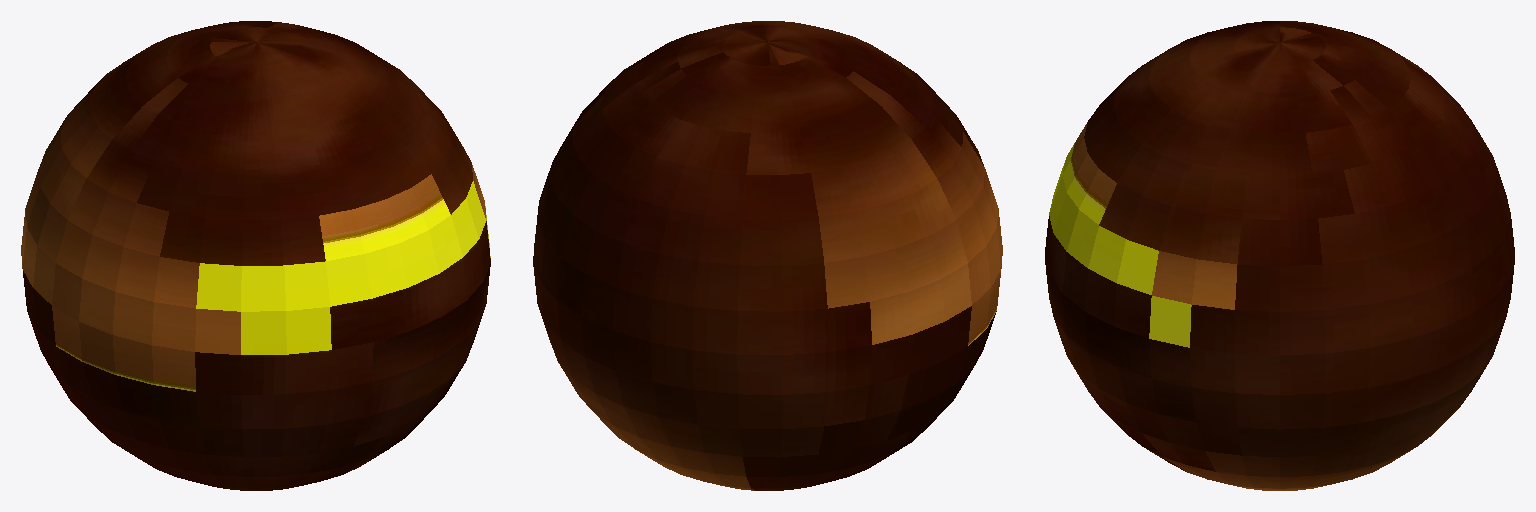
The picture shows the model from 3 angles: view 1: azimuth 30°, elevation 25°; view 2: azimuth 150°, elevation 25°; view 3: azimuth 270°, elevation 25°; orthographic projection.
Visible parts, largest first — view 1: Sphere; view 2: Sphere; view 3: Sphere.
Boxes of the visible parts, x1=… form: Sphere: x1=21, y1=21, x2=490, y2=490; Sphere: x1=533, y1=21, x2=1002, y2=490; Sphere: x1=1045, y1=21, x2=1514, y2=490.
Size of the model in its own units: 2 by 2 by 2.
1 materials, 1 textured.